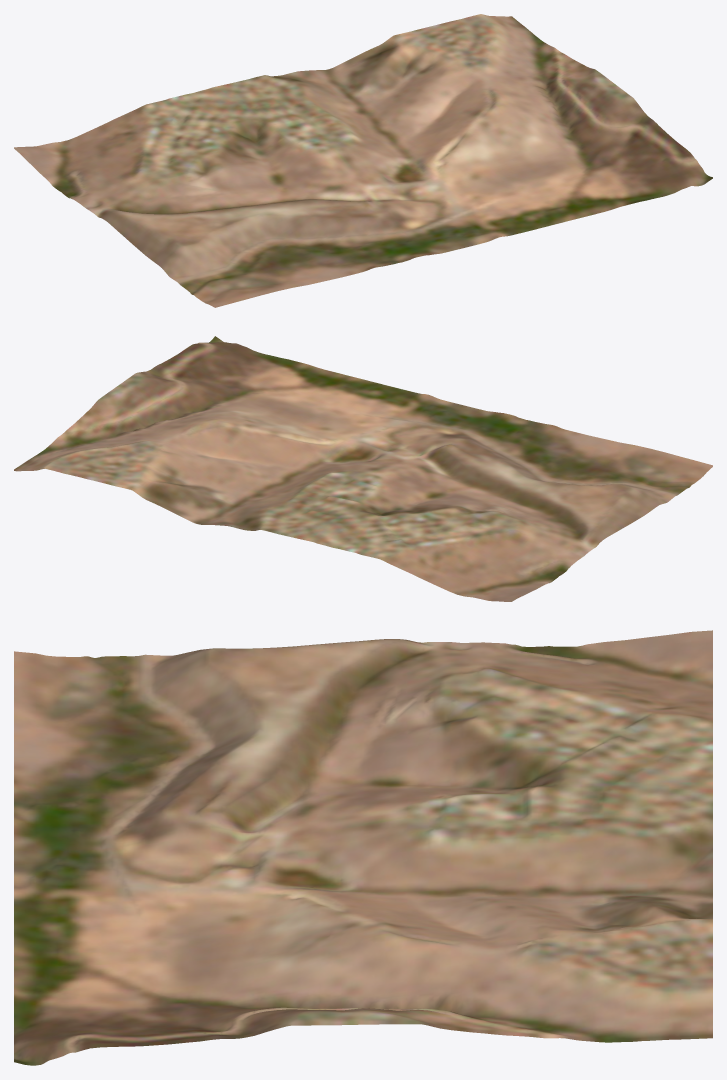
The model's file is terrain_r5_c3.glb.
3 views of the same model, one above another, from view 1: azimuth 30°, elevation 25°; view 2: azimuth 150°, elevation 25°; view 3: azimuth 270°, elevation 25° (orthographic). The views are drawn at different scales.
Parts seen in each view (by area): view 1: terrain_r5_c3_lod0; view 2: terrain_r5_c3_lod0; view 3: terrain_r5_c3_lod0.
Part boxes in pixels (left/top/right/bottom): terrain_r5_c3_lod0: left=14, top=14, right=712, bottom=307; terrain_r5_c3_lod0: left=14, top=336, right=712, bottom=601; terrain_r5_c3_lod0: left=14, top=630, right=712, bottom=1065.
Size of the model in its own units: 1125 by 79.11 by 787.
1 material, 1 textured.
